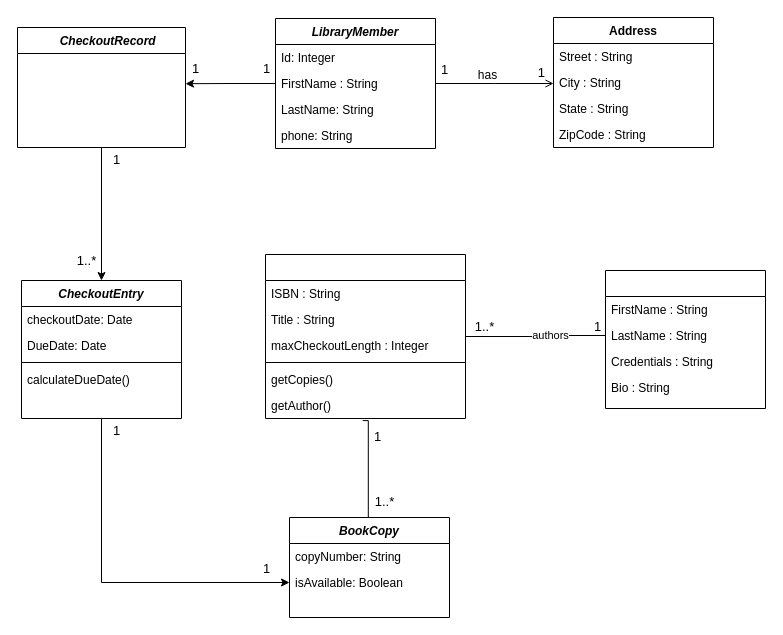
The diagram is 783 pixels wide and 635 high, and some of its shapes have lost their labels. Here are the shapes that lost their labels. From the top down, the box of each, then its label:
(264, 254, 466, 418): Book
(604, 270, 766, 408): Author
